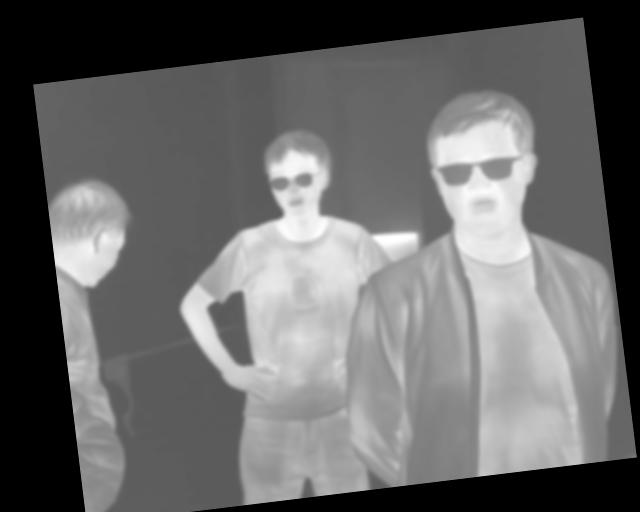face: (420, 83, 546, 245), (258, 125, 338, 220)
